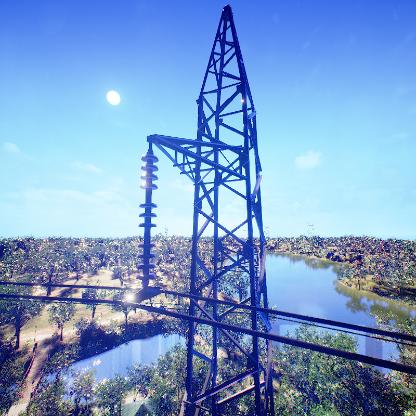insulator: (135, 151, 161, 287)
